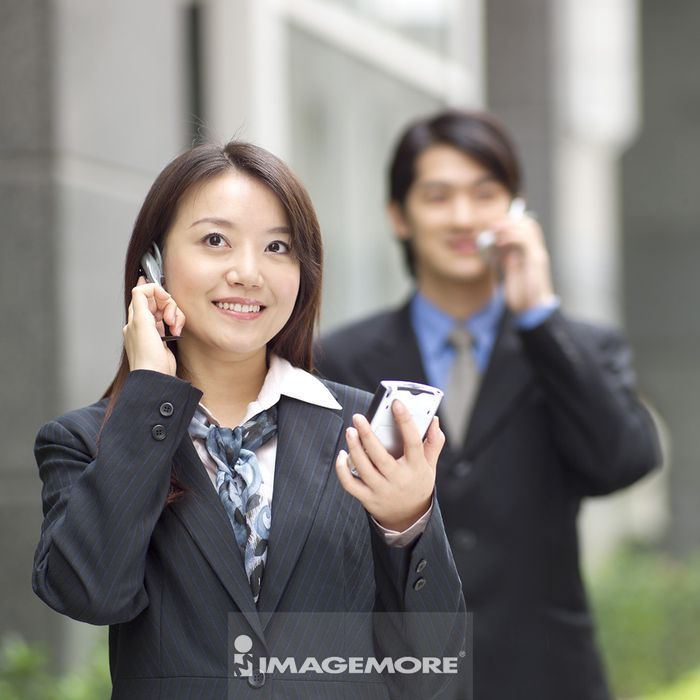talk: (122, 209, 300, 396)
